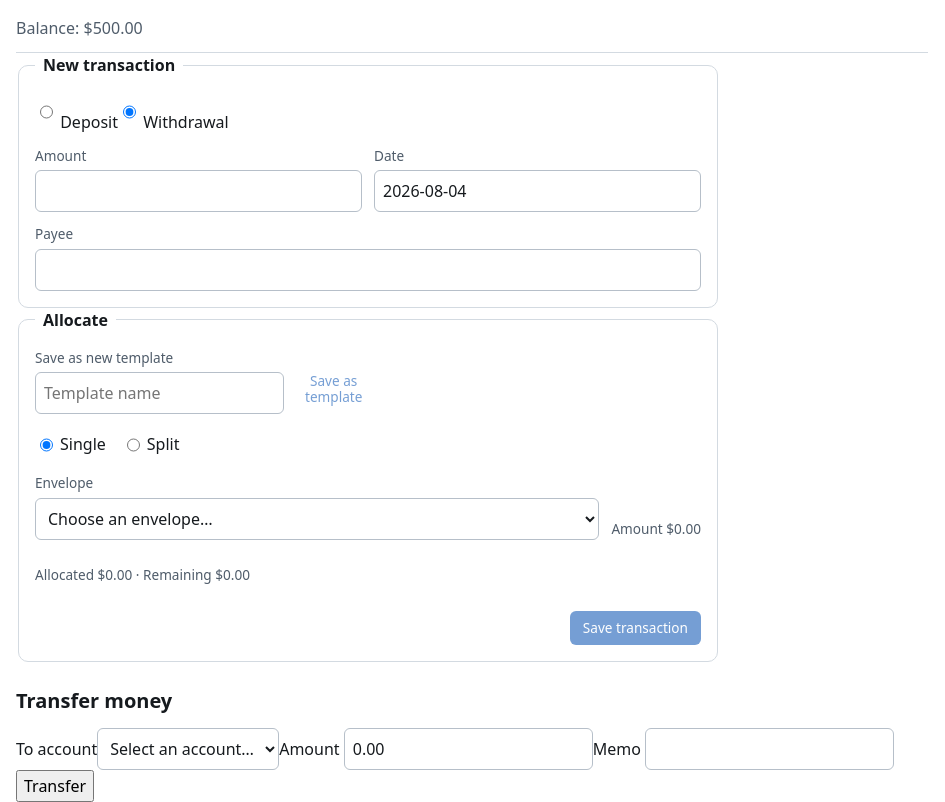
it: Transfer money (FEAT-007) › transferring out moves the balance and shows a labeled transfer leg in the register
This screenshot has width=945, height=802.
Select "Savings" in the dropdown labelled "To account" at (188, 750), box [97,728,279,770]
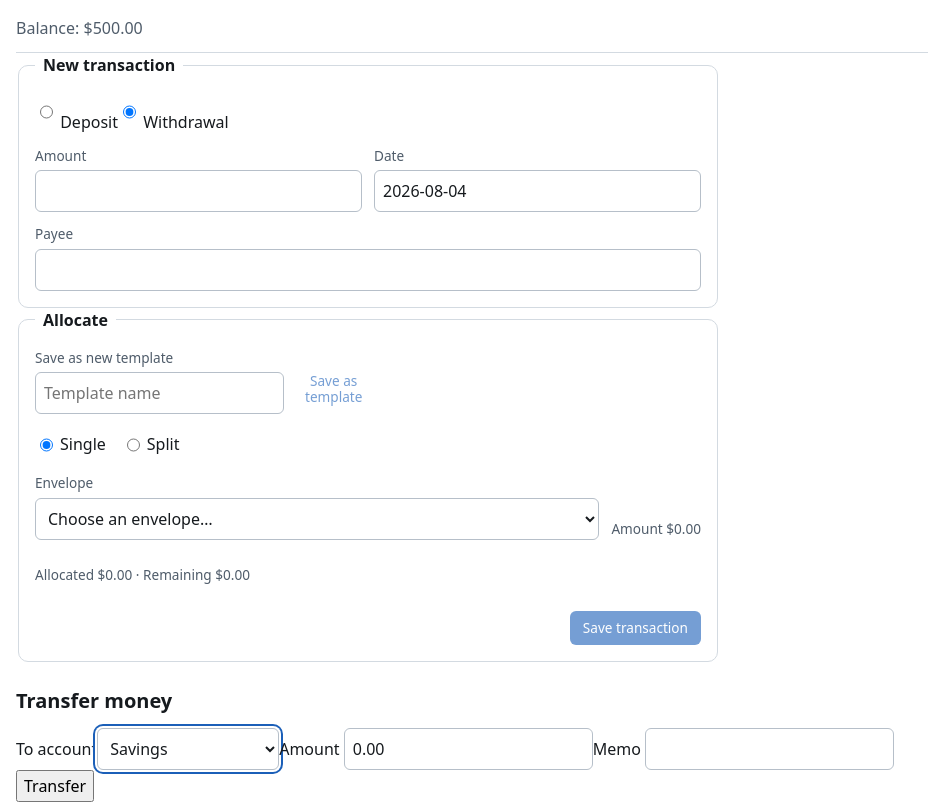
Replace the text in the field labelled "Amount" in the row of "To account" with "100.00" at (468, 750), box [344,728,593,770]
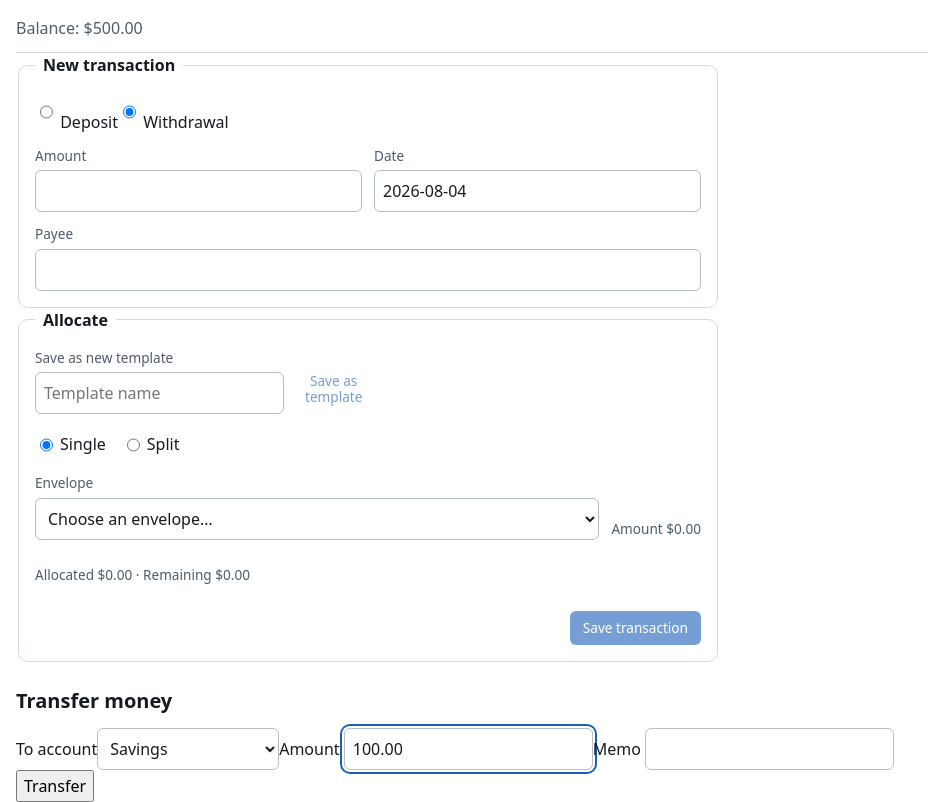
Click the button "Transfer" at (55, 786), box [16,770,94,801]
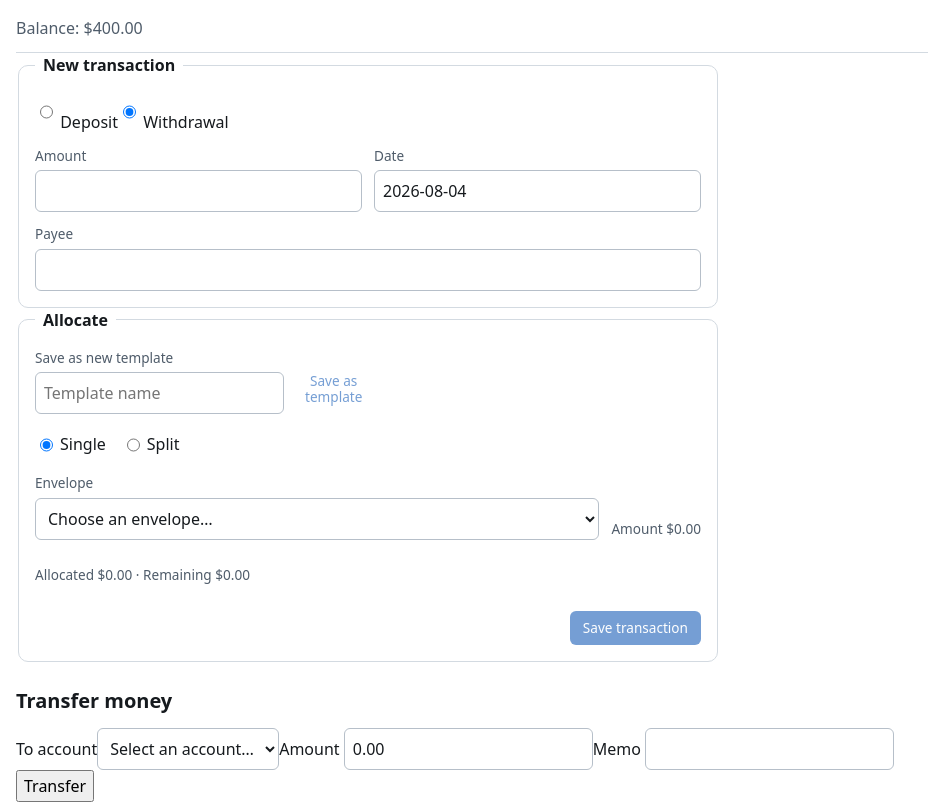
Expected: the text "Balance: $400.00" is shown, [16,16,143,40]
